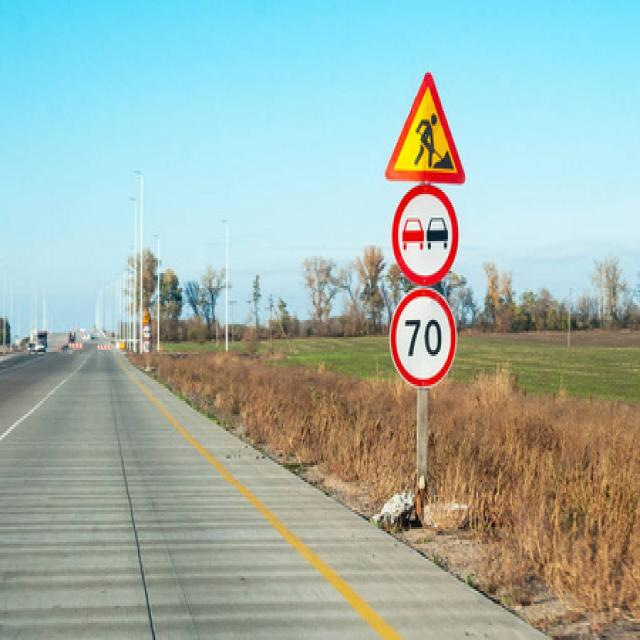speed limit 70: (388, 289, 461, 388)
